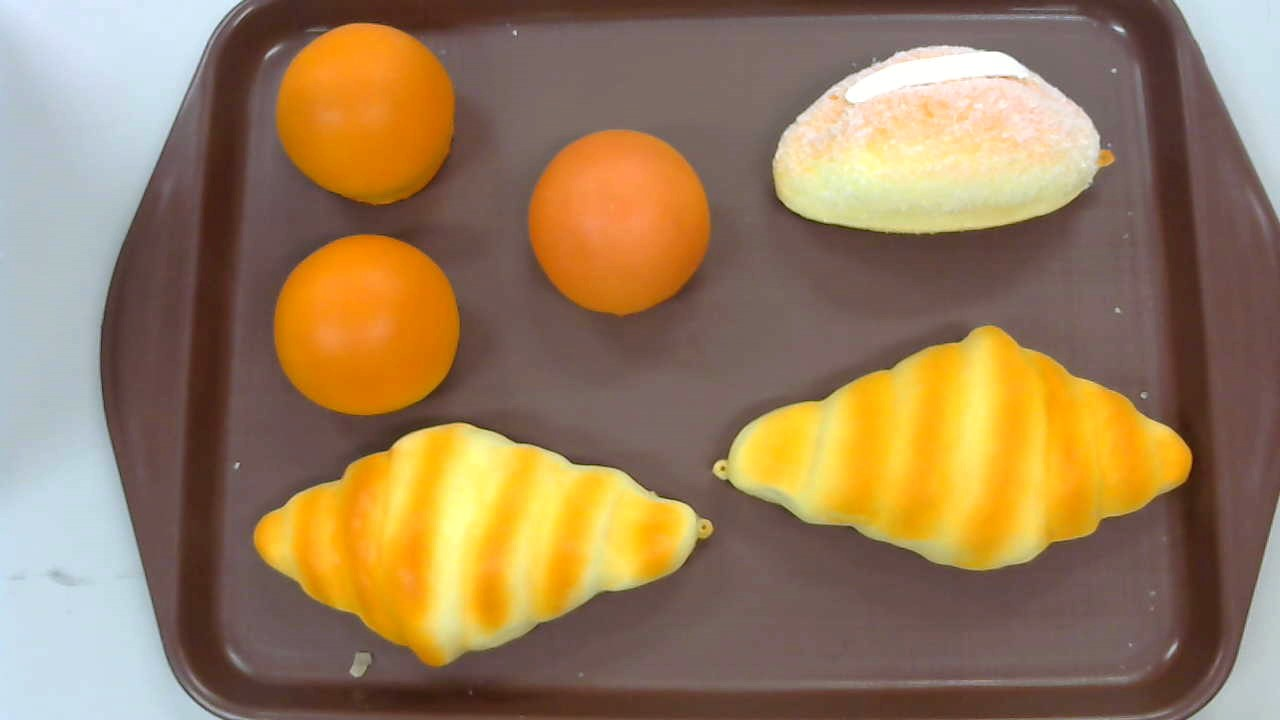bun: (525, 129, 712, 316), (272, 233, 460, 416), (276, 23, 455, 205)
coconut: (773, 43, 1115, 234)
croissant: (712, 324, 1192, 572), (253, 422, 713, 668)
